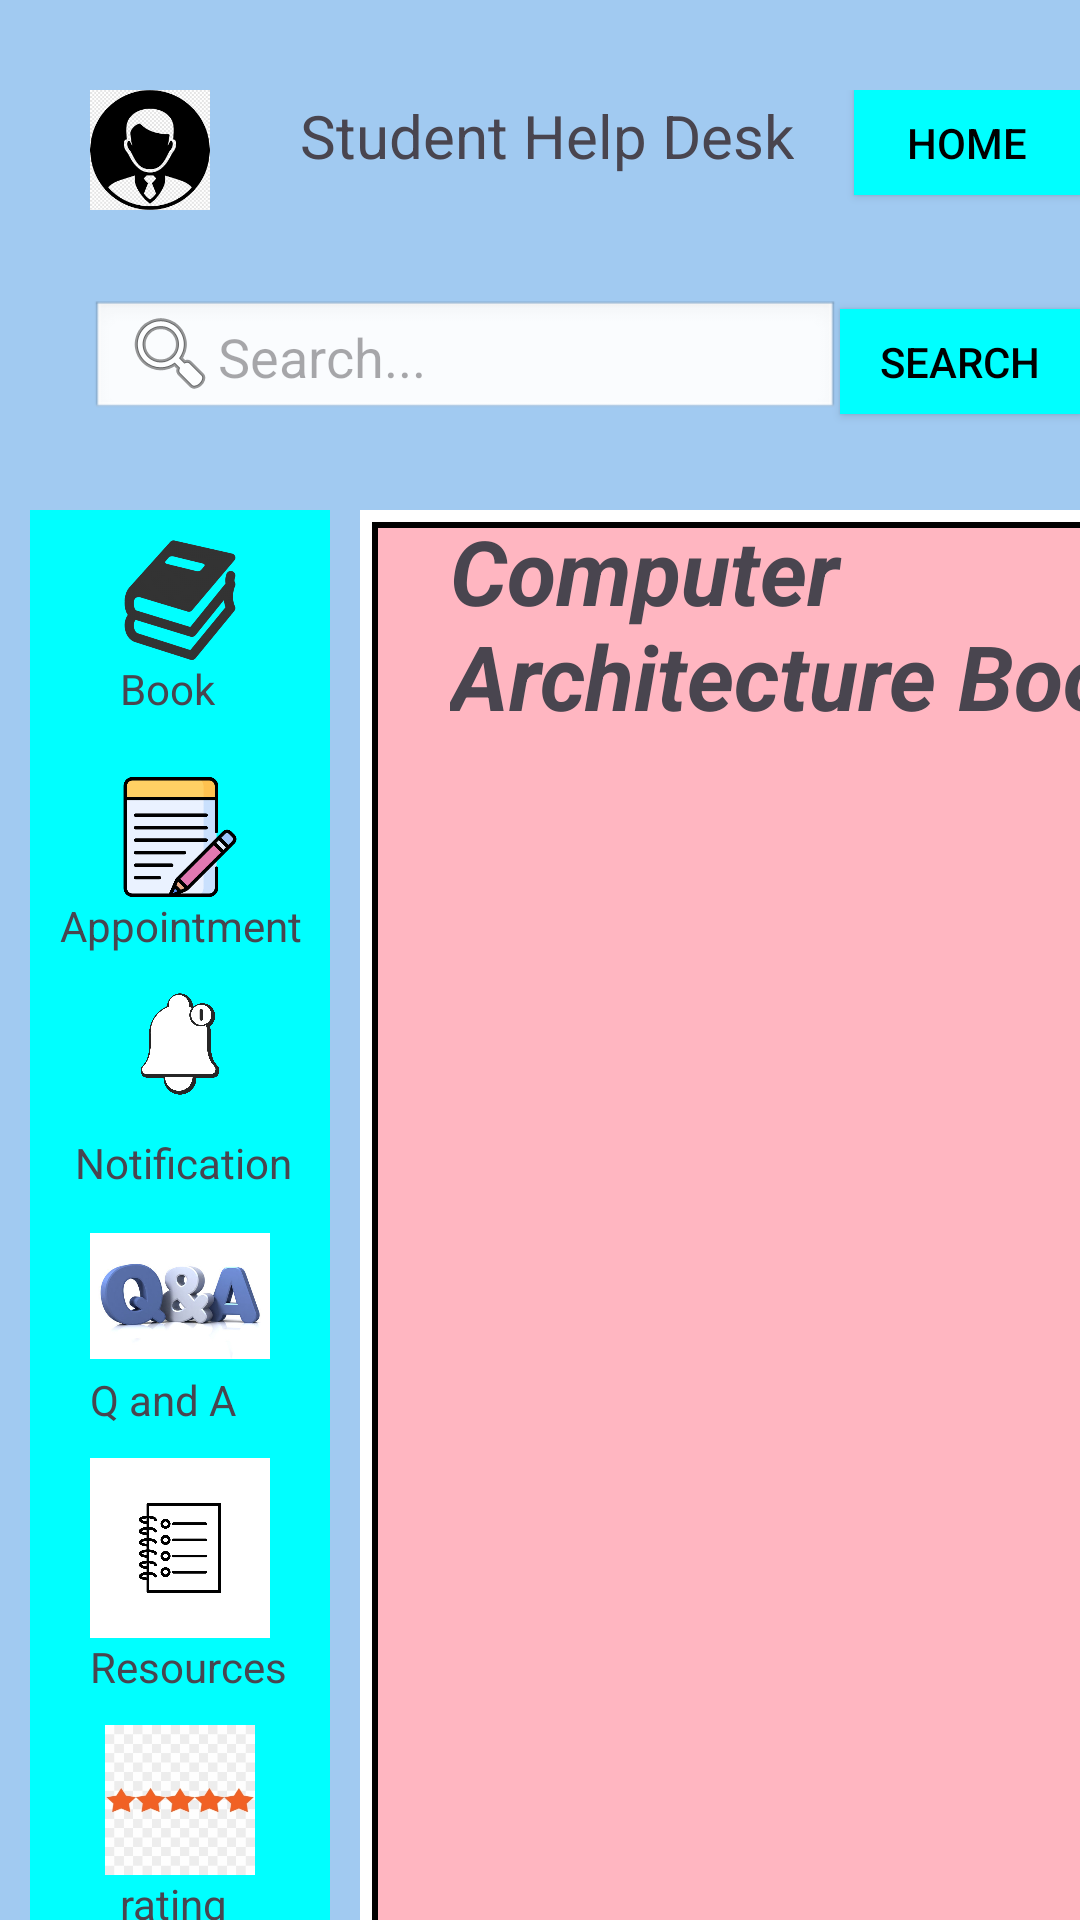

Icons on this 1080×1920 Android screen, each with its box as (x1, y1, x2, y2):
profile: (90, 90, 210, 210)
